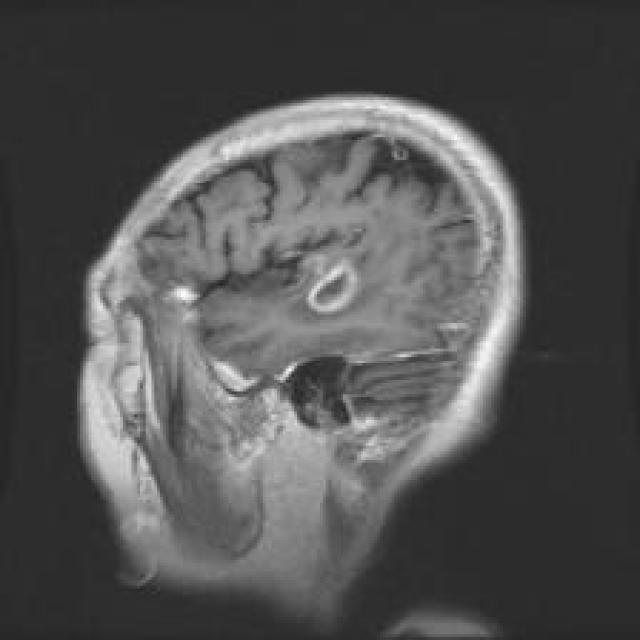glioma_tumor: (267, 248, 379, 326)
